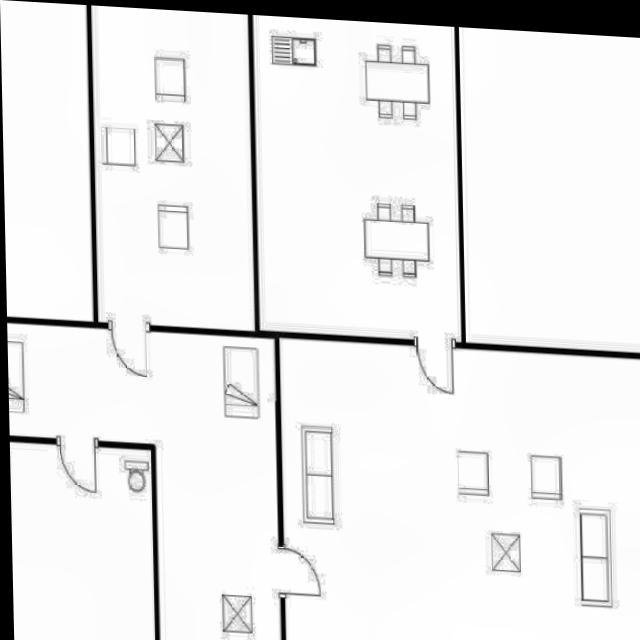room: (279, 338, 640, 640), (7, 317, 281, 640), (253, 10, 461, 347), (91, 2, 255, 335), (10, 439, 155, 640)
